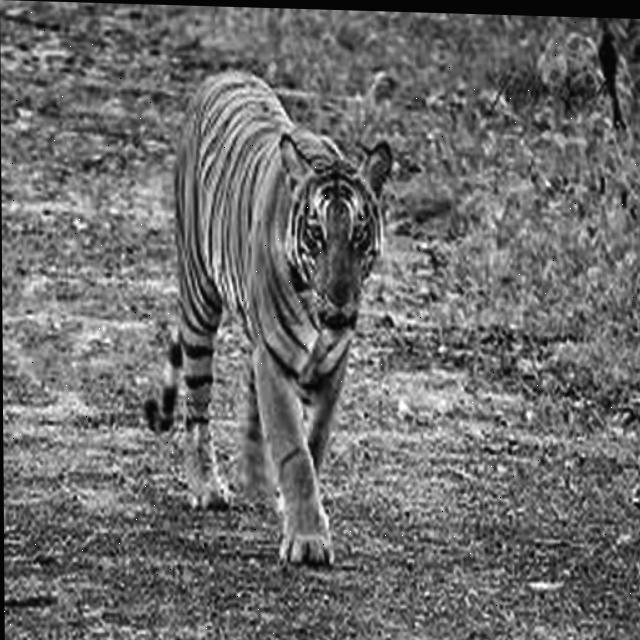Tiger: (139, 63, 397, 571)
